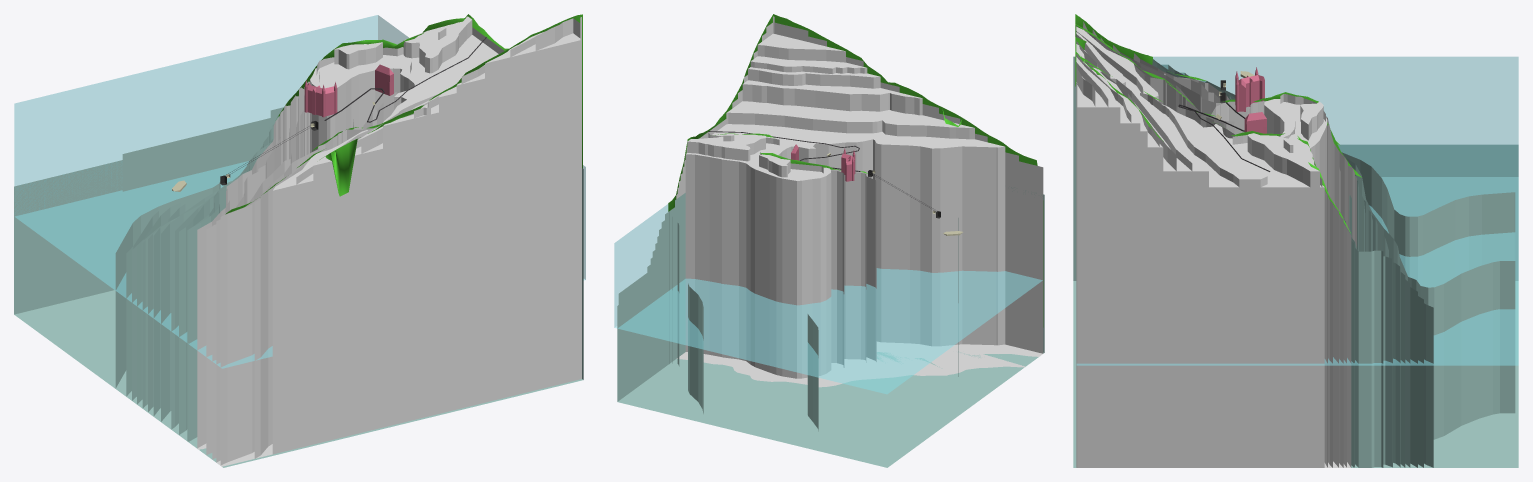
File: 3dMap.glb
3 renders of one model, left to right at view 1: azimuth 30°, elevation 25°; view 2: azimuth 150°, elevation 25°; view 3: azimuth 270°, elevation 25°, orthographic. The views are drawn at different scales.
Visible parts, largest first — view 1: water, Contour-900, Contour-740.001, Contour-700, base, Contour-800, Contour-360, Contour-860, Contour-660, Contour-680, Contour-840, Contour-580 (+23 smaller); view 2: Contour-700, water, Contour-360, Contour-580, Contour-380, Contour-660, base, Contour-740.001, Contour-800, Contour-640, Contour-480, Contour-680 (+13 smaller); view 3: water, Contour-700, Contour-900, Contour-740.001, Contour-360, Contour-380, base, Contour-720, Contour-860, Contour-540, Contour-800, Contour-740 (+22 smaller).
Boxes of the visible parts, box(x1,y1,x2,y2) form: water: box(14, 15, 585, 368); Contour-900: box(485, 32, 580, 402); Contour-740.001: box(313, 95, 439, 444); Contour-700: box(272, 35, 498, 454); base: box(14, 160, 122, 388); Contour-800: box(383, 95, 440, 427); Contour-360: box(115, 118, 583, 467); Contour-860: box(456, 45, 517, 409); Contour-660: box(220, 87, 353, 466); Contour-680: box(254, 76, 396, 458); Contour-840: box(439, 86, 456, 413); Contour-580: box(197, 118, 278, 449); Contour-700: box(685, 124, 1005, 378); water: box(614, 204, 1042, 394); Contour-360: box(618, 250, 1043, 447); Contour-580: box(676, 187, 1043, 387); Contour-380: box(618, 245, 1044, 413); Contour-660: box(682, 158, 1043, 380); base: box(617, 259, 962, 467); Contour-740.001: box(726, 101, 974, 139); Contour-800: box(742, 80, 922, 115); Contour-640: box(680, 164, 1043, 377); Contour-480: box(657, 216, 1044, 392); Contour-680: box(684, 152, 1018, 367); water: box(1076, 56, 1518, 365); Contour-700: box(1076, 27, 1327, 467); Contour-900: box(1076, 57, 1120, 467); Contour-740.001: box(1076, 32, 1208, 467); Contour-360: box(1073, 152, 1515, 467); Contour-380: box(1346, 158, 1515, 439); base: box(1338, 144, 1518, 467); Contour-720: box(1076, 31, 1325, 467); Contour-860: box(1085, 64, 1140, 467); Contour-540: box(1161, 64, 1383, 467); Contour-800: box(1076, 44, 1163, 467); Contour-740: box(1247, 133, 1319, 467).
Bounding box in the file's own units: 10.11 × 9.69 × 10.08.
